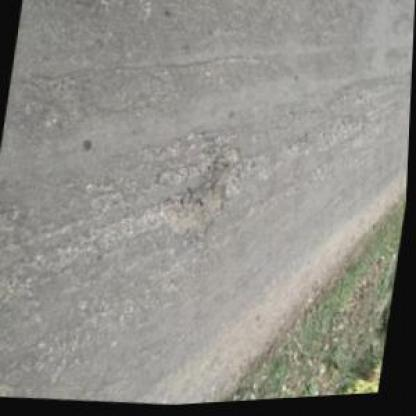pothole: (155, 173, 230, 247)
